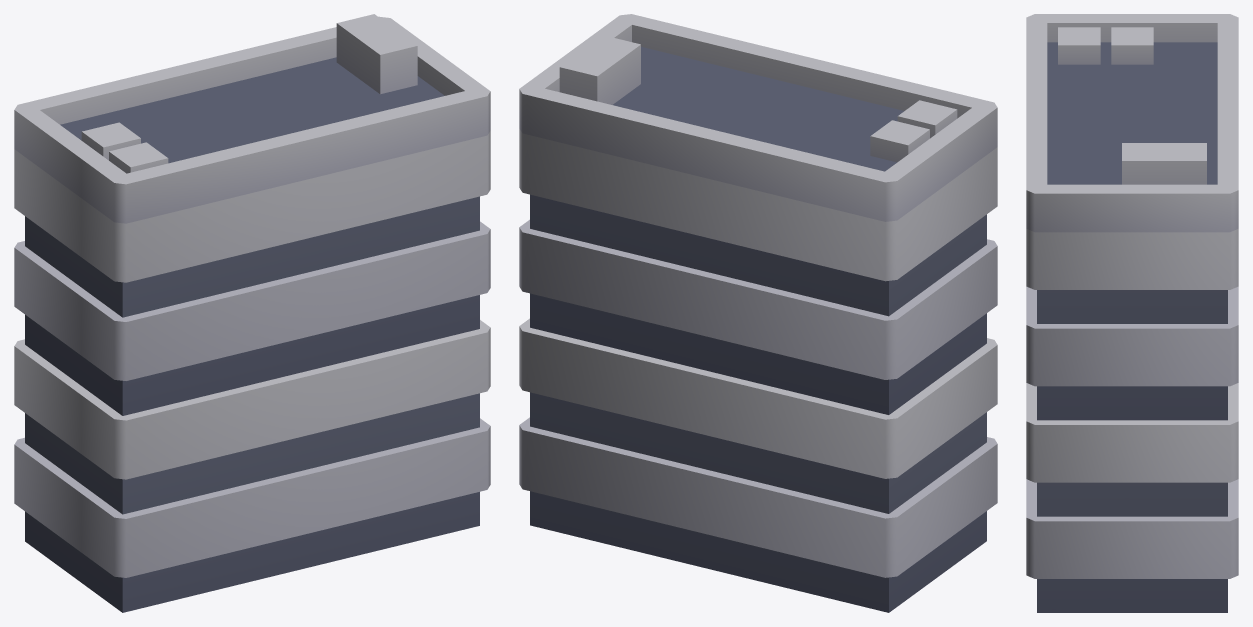
The model's file is low-detail-building-wide-b.glb.
3 views of the same model, side by side, from view 1: azimuth 30°, elevation 25°; view 2: azimuth 150°, elevation 25°; view 3: azimuth 270°, elevation 25° (orthographic). The views are drawn at different scales.
Parts seen in each view (by area): view 1: low-detail-building-wide-b; view 2: low-detail-building-wide-b; view 3: low-detail-building-wide-b.
Part boxes in pixels (bbox=[...]): low-detail-building-wide-b: bbox=[14, 14, 490, 612]; low-detail-building-wide-b: bbox=[519, 14, 997, 612]; low-detail-building-wide-b: bbox=[1026, 14, 1238, 612].
Bounding box in the file's own units: 1 × 1.15 × 0.5.
